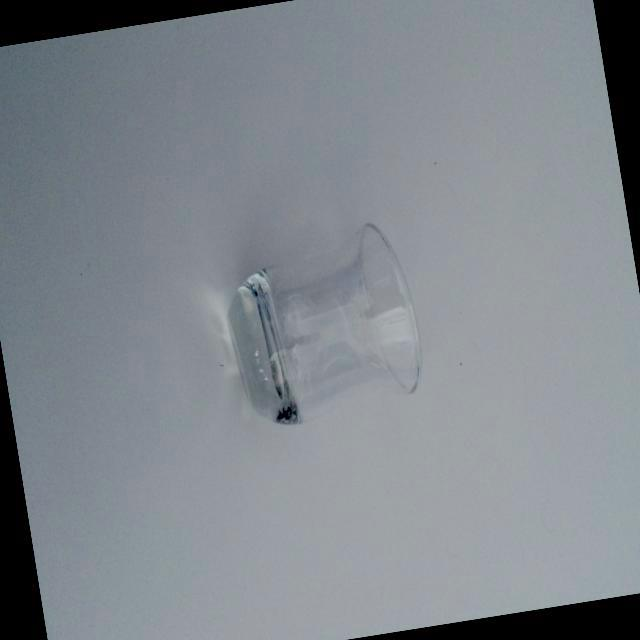glass: (178, 198, 451, 462)
